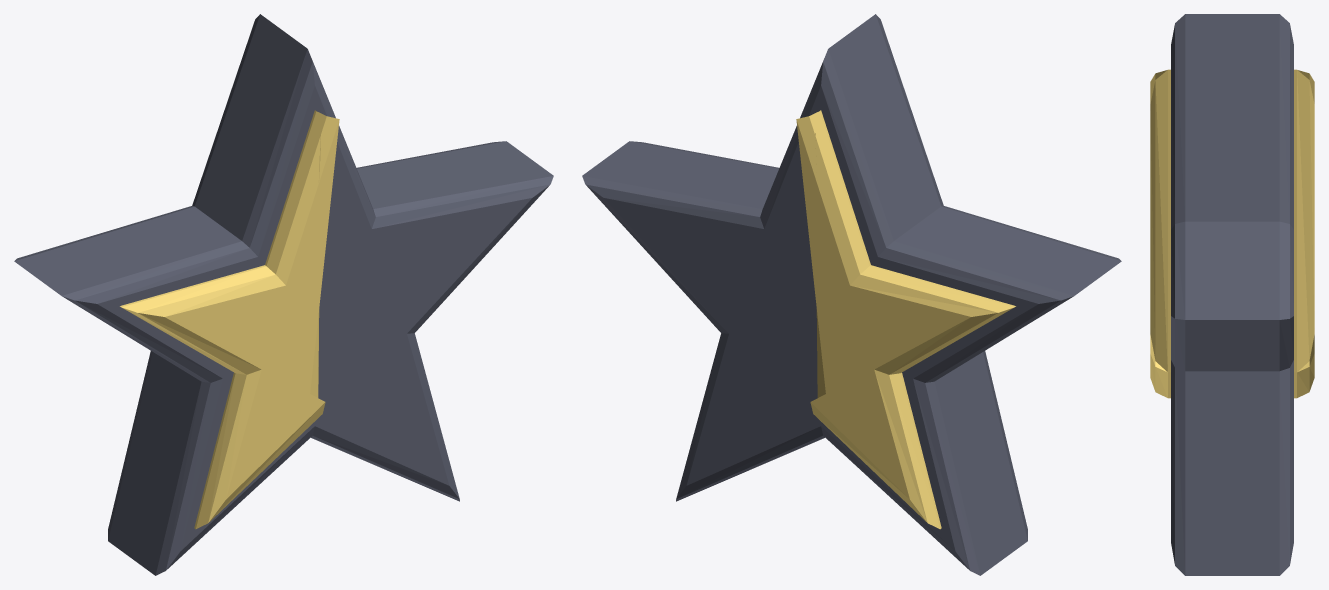
The model's file is game-ui-icon-library-star-half-2d8dd240__19013.glb.
The picture shows the model from 3 angles, left to right: view 1: azimuth 30°, elevation 25°; view 2: azimuth 150°, elevation 25°; view 3: azimuth 270°, elevation 25°; orthographic projection.
Parts seen in each view (by area): view 1: star-half; view 2: star-half; view 3: star-half.
Boxes of the visible parts, left/top/right/bottom form: star-half: left=14, top=14, right=553, bottom=575; star-half: left=582, top=14, right=1121, bottom=575; star-half: left=1150, top=14, right=1314, bottom=575.
Bounding box in the file's own units: 0.98 × 0.932 × 0.2843.
